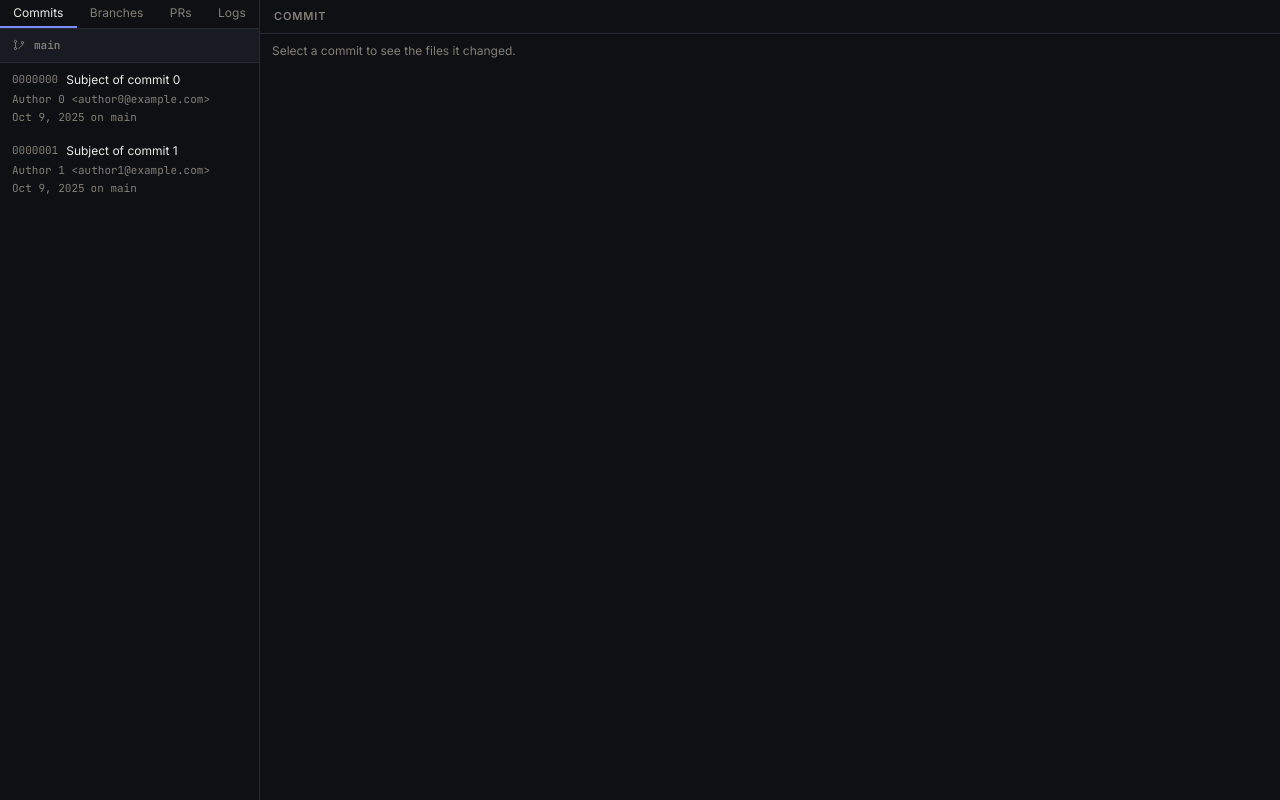
Test: selecting a branch (GIT-FR-LNEI) › GIT-FR-SION: with no branch selected the large view says so
This screenshot has width=1280, height=800.
Click the tab "Branches": point(117, 12) [90,5,143,20]
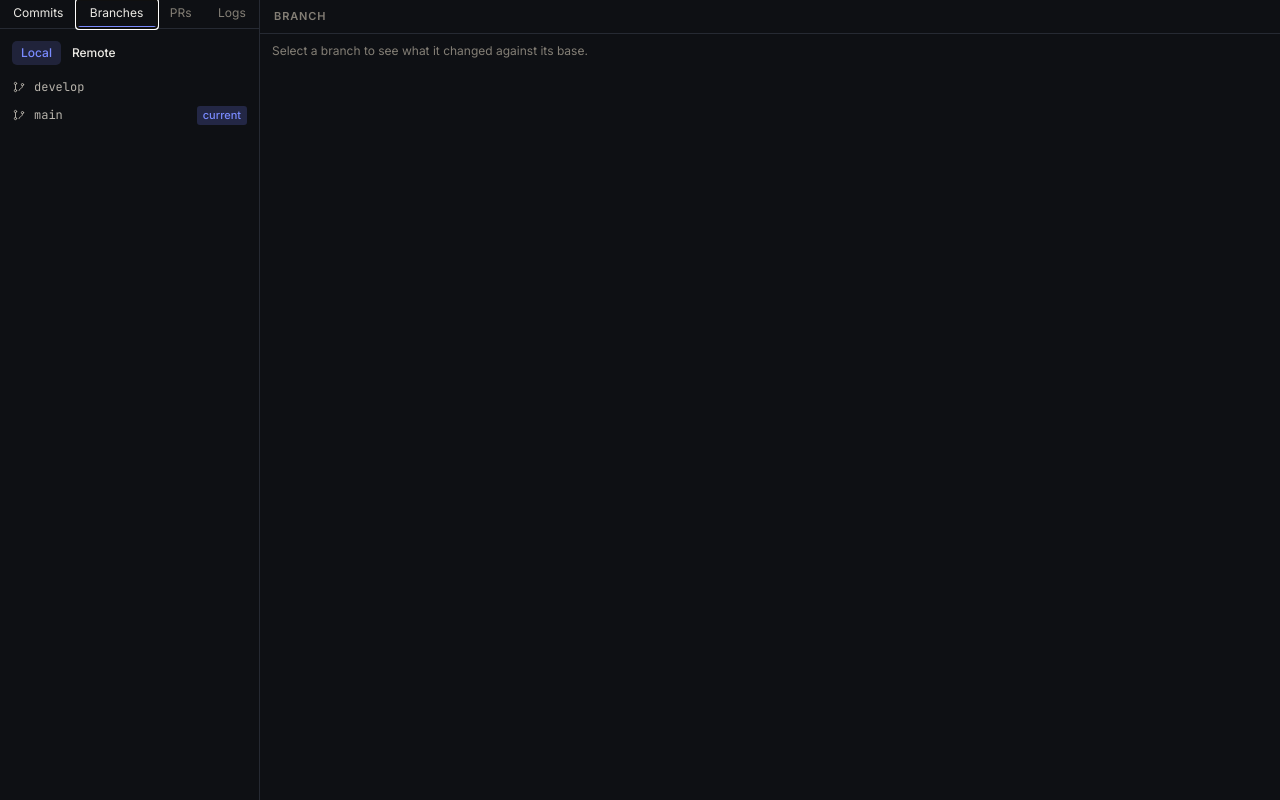
Result: the text "develop" is shown at [34,79,84,95]
Result: the message with test id "git-compare-no-branch" reads "Select a branch to see what it changed against its base." at [272,42,588,58]
